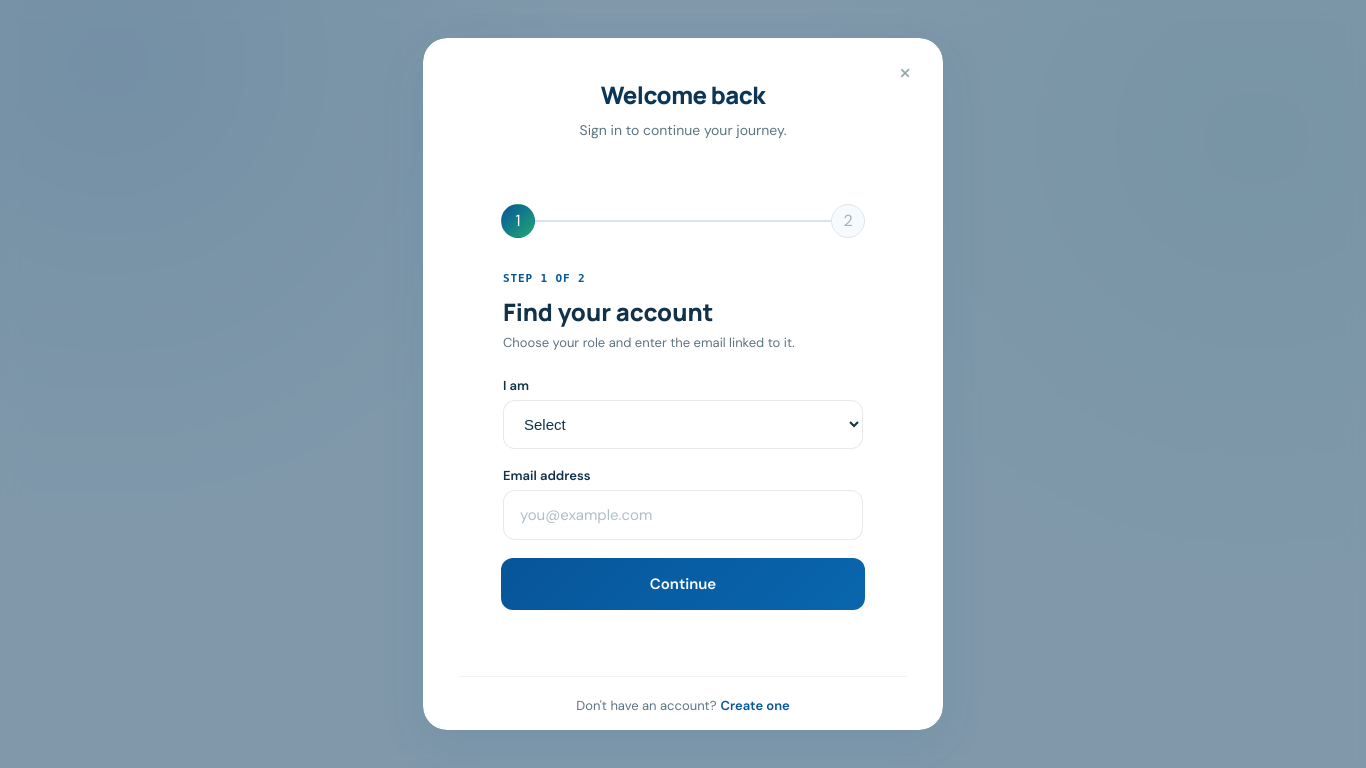
Test: AuthModal › shows the server message for status 401
Select "Looking for work" in the dropdown with id "auth-role". click: (683, 424)
box: [503,400,863,449]
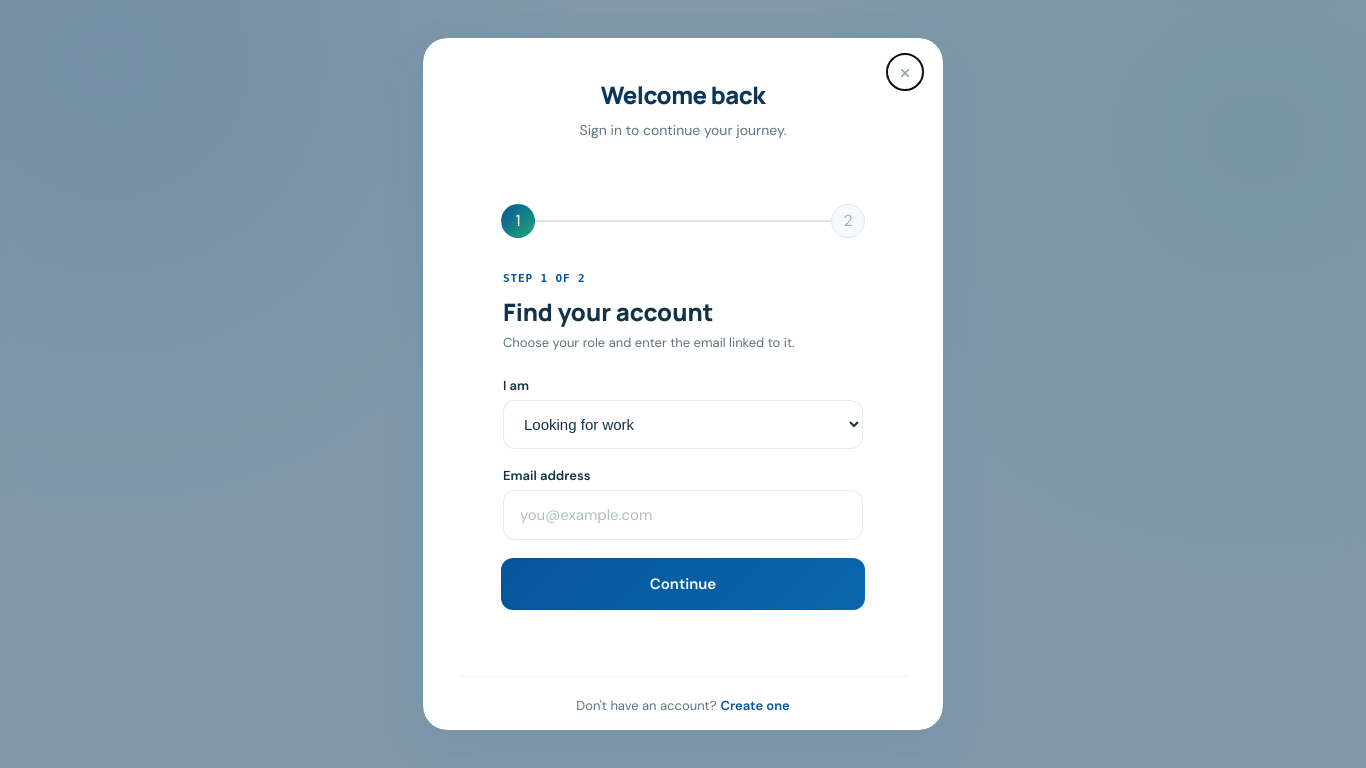
Type "person@example.com" into the field with id "auth-login-email". click: (683, 515)
box: [503,490,863,540]
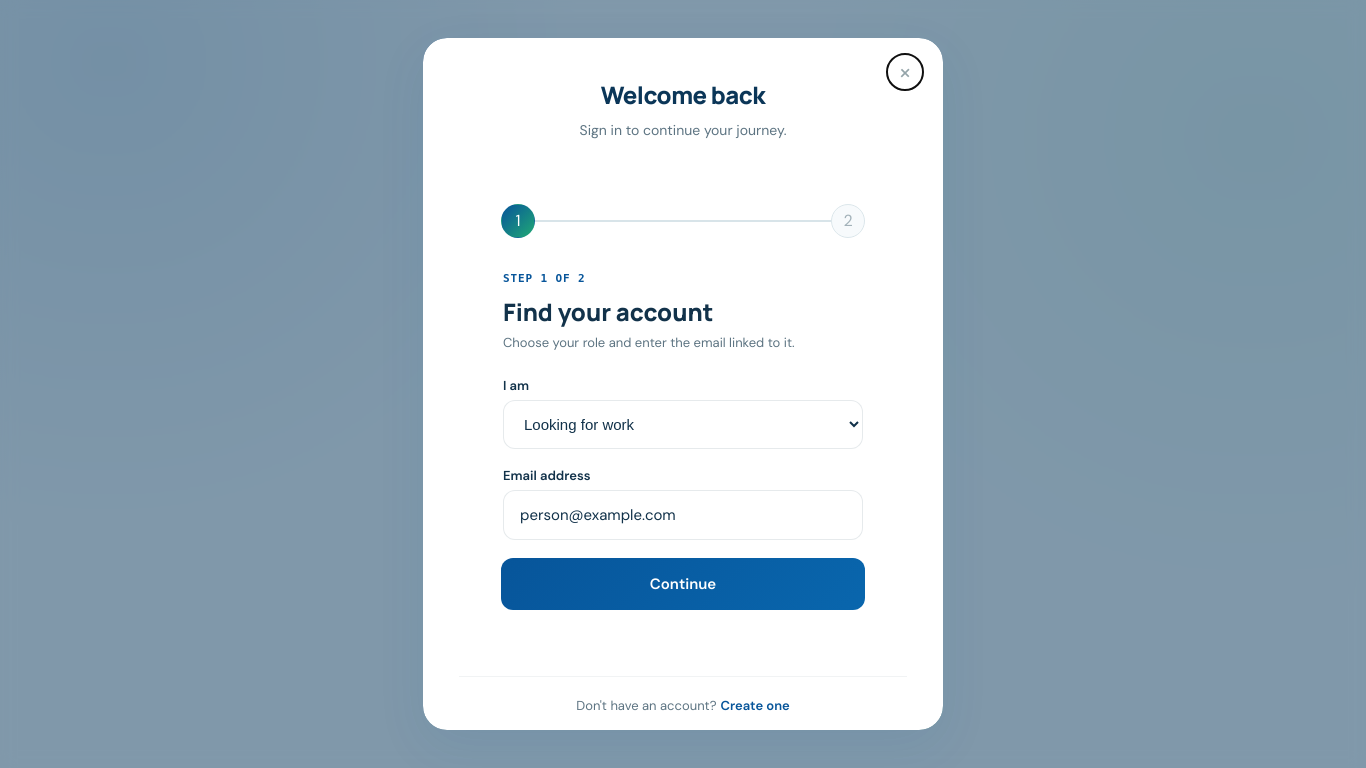
Click the button with class "auth-form__submit". click: (683, 584)
box: [501,558,865,610]
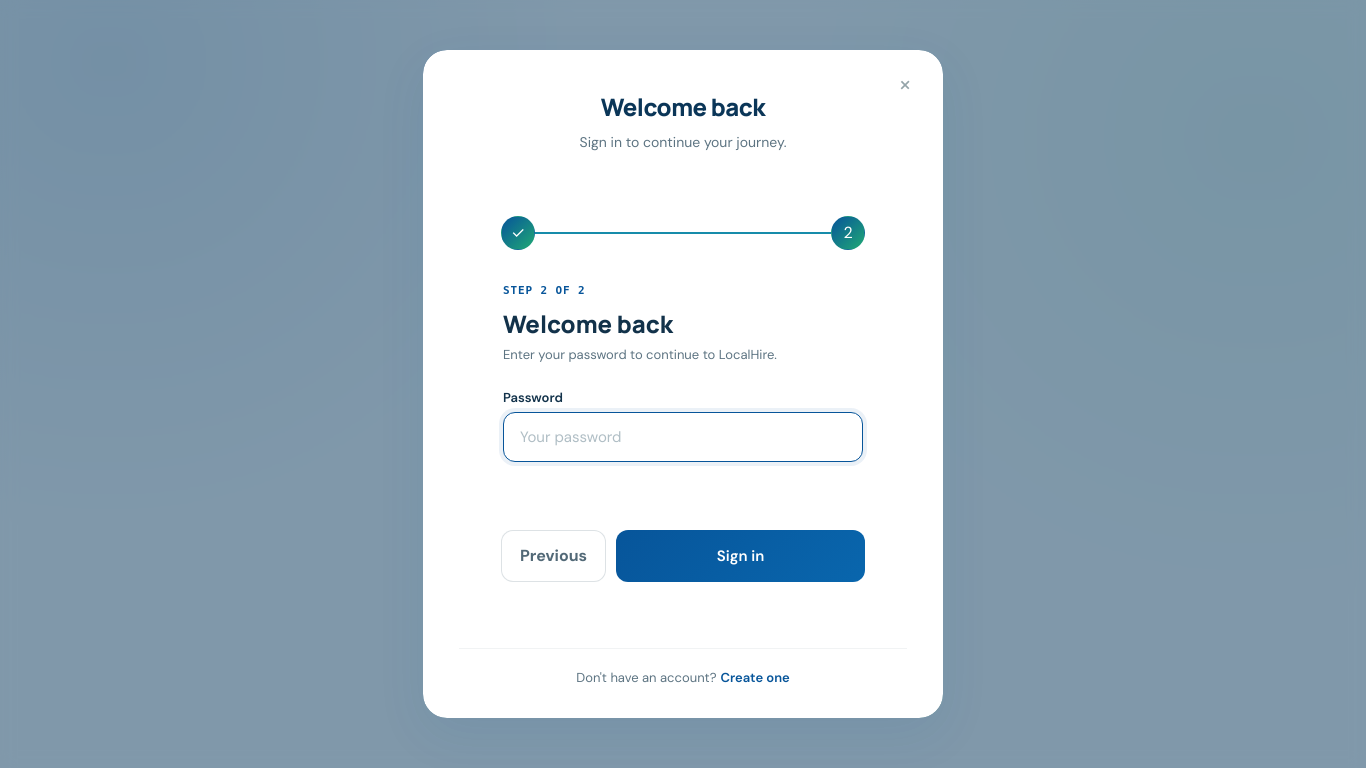
Type "Password1!" into the password field with id "auth-password". click: (683, 437)
box: [503,412,863,462]
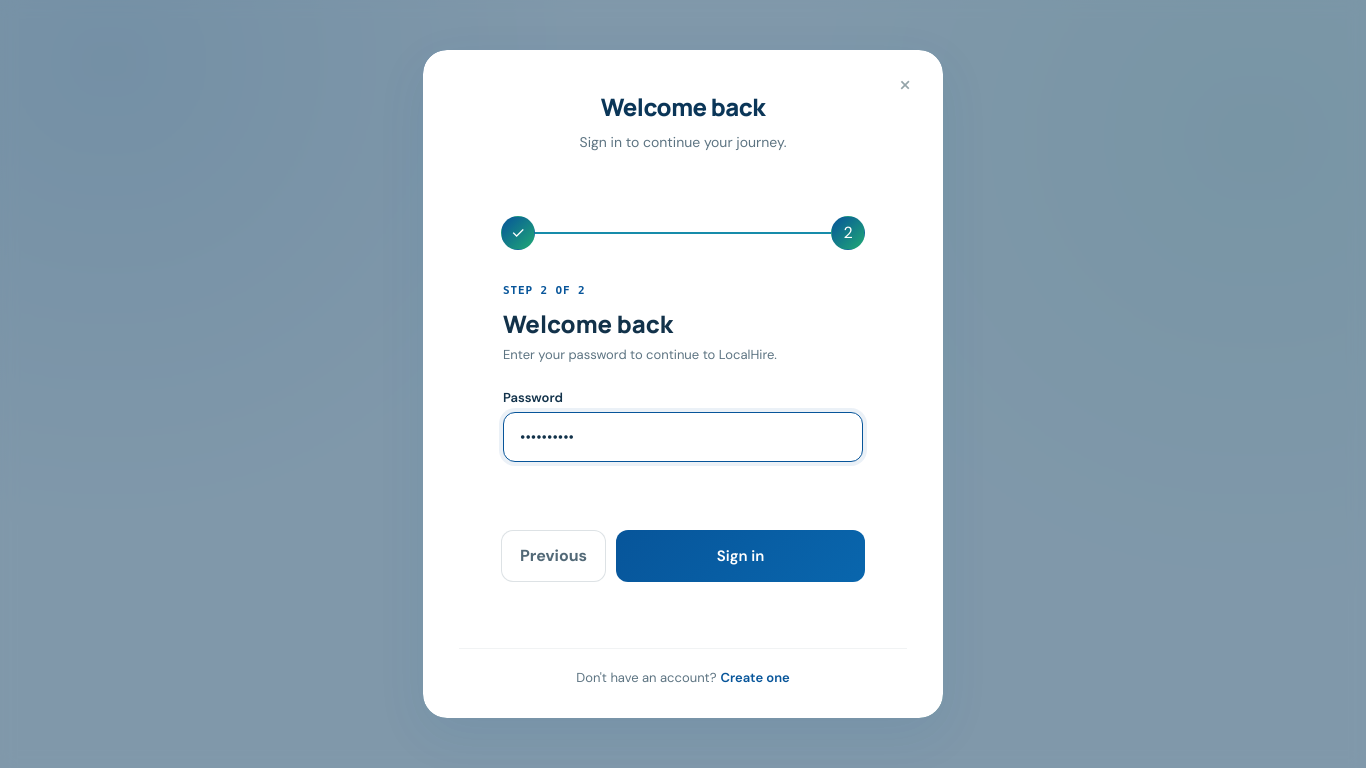
Submit the form, box [501,216,865,582]
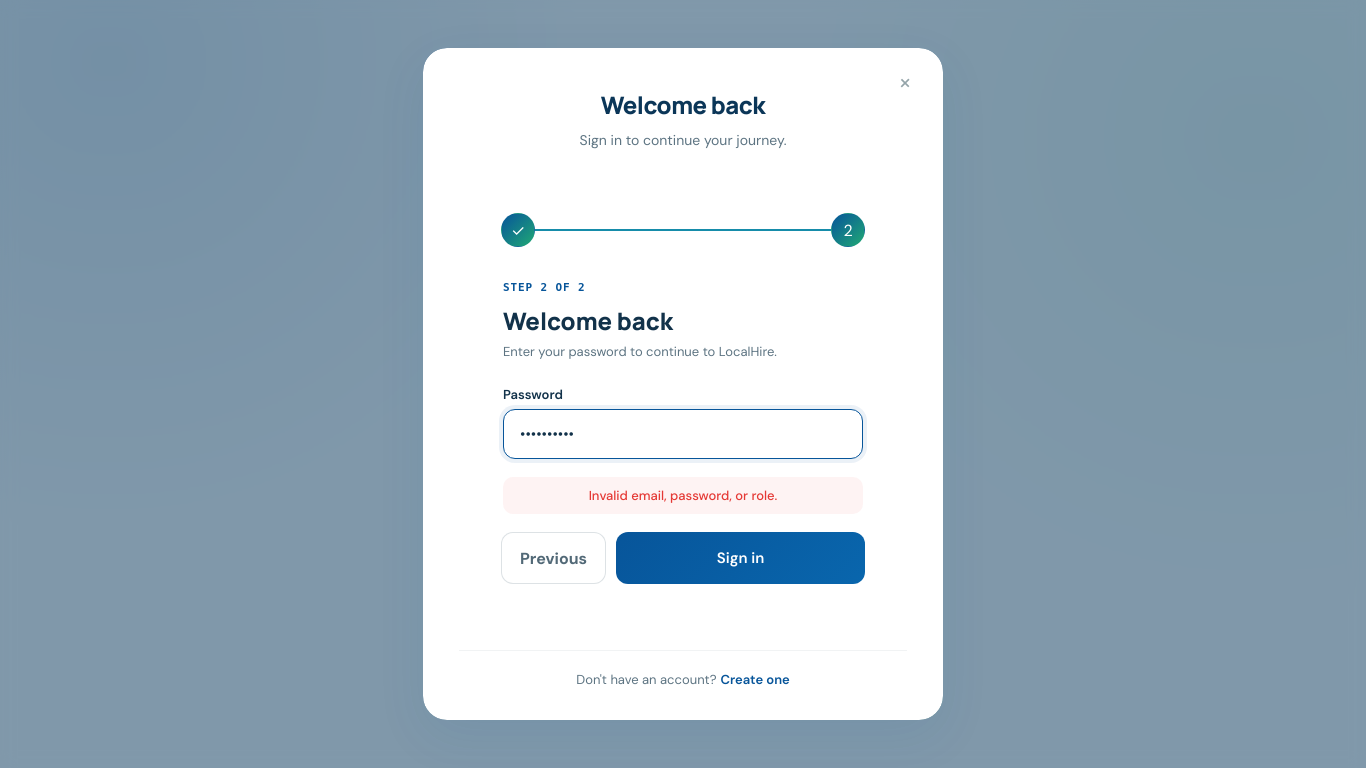
Expected: the text with class "auth-form__error" reads "Invalid email, password, or role.", [589,487,777,504]
